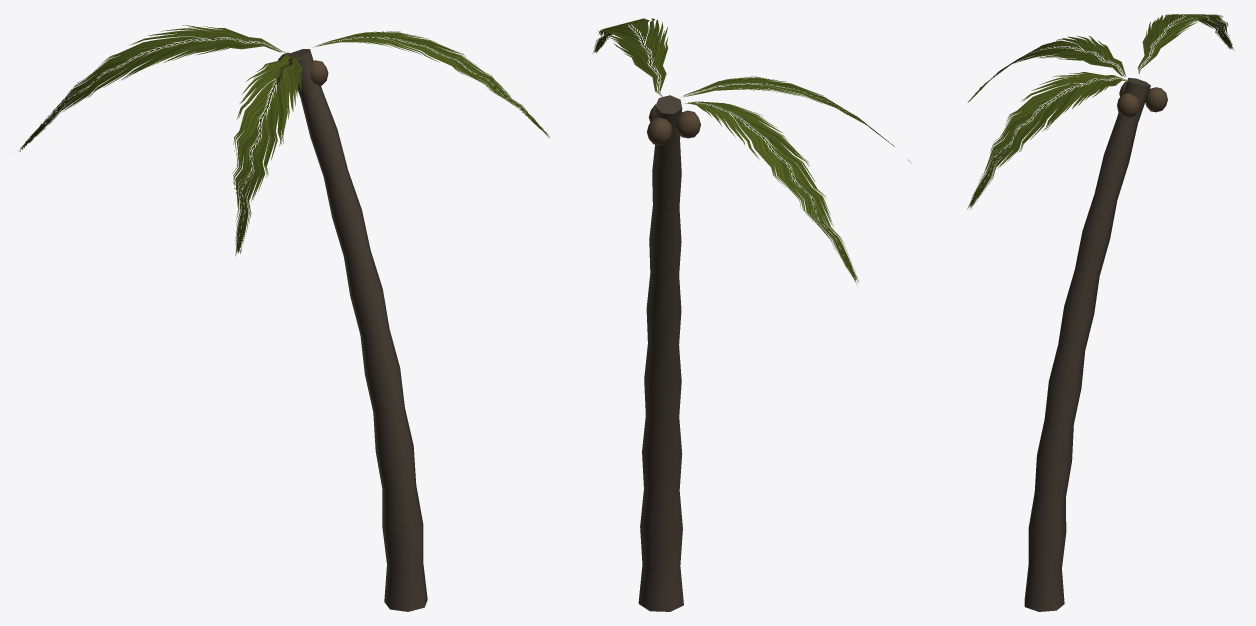
Rendered from palm_1_burnt2.glb.
The picture shows the model from 3 angles, left to right: view 1: azimuth 30°, elevation 25°; view 2: azimuth 150°, elevation 25°; view 3: azimuth 270°, elevation 25°; orthographic projection. The views are drawn at different scales.
Parts seen in each view (by area): view 1: palm_1_burnt2; view 2: palm_1_burnt2; view 3: palm_1_burnt2.
Boxes of the visible parts, x1,y1,x2,y2 form: palm_1_burnt2: (19,25,549,611); palm_1_burnt2: (592,18,910,611); palm_1_burnt2: (967,14,1234,611).
Size of the model in its own units: 5.64 by 7.44 by 3.64.
3 materials, 1 textured.
